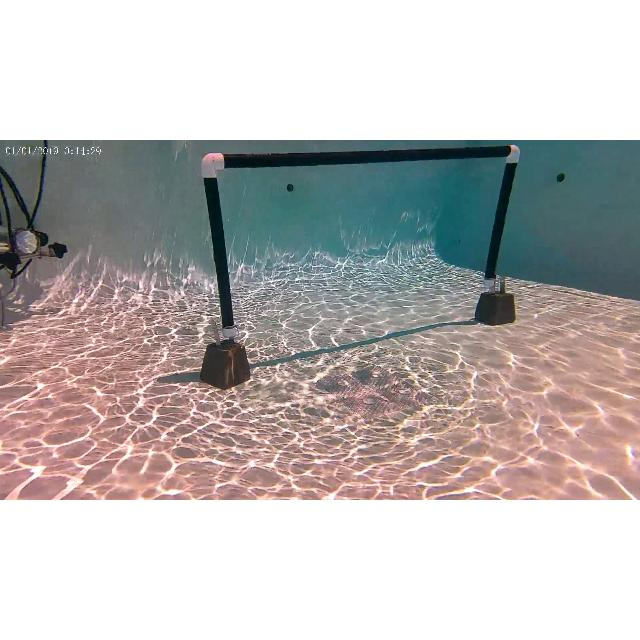prequal gate: (202, 144, 520, 338)
prequal gate leg l: (192, 154, 254, 392)
prequal gate leg r: (474, 141, 524, 327)
